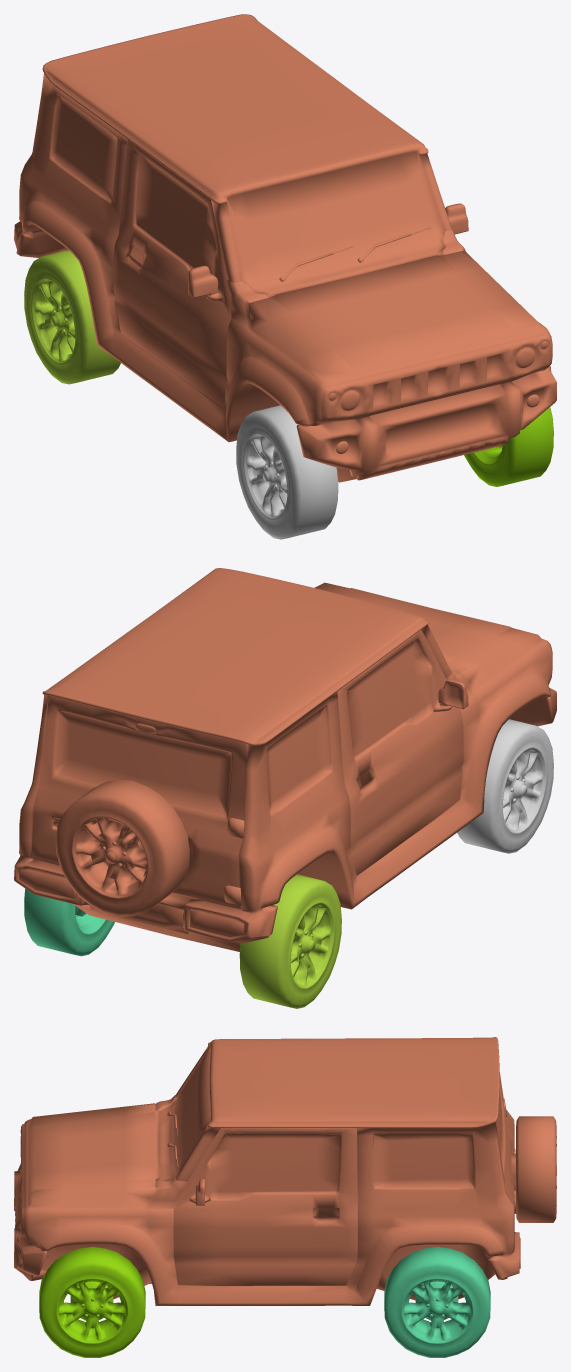
The model's file is SUV_Car_Model.fbx.
3 views of the same model, one above another, from view 1: azimuth 30°, elevation 25°; view 2: azimuth 150°, elevation 25°; view 3: azimuth 270°, elevation 25° (orthographic). The views are drawn at different scales.
Visible parts, largest first — view 1: Jimny_Universal_Body, Front_Right_Wheel, Rear_Right_Wehel, Front_Left_Wheel; view 2: Jimny_Universal_Body, Rear_Right_Wehel, Front_Right_Wheel, Rear_Left_Wheel; view 3: Jimny_Universal_Body, Front_Left_Wheel, Rear_Left_Wheel.
Part boxes in pixels (left/top/right/bottom): Jimny_Universal_Body: left=14, top=14, right=556, bottom=482; Front_Right_Wheel: left=236, top=405, right=338, bottom=539; Rear_Right_Wehel: left=24, top=250, right=120, bottom=384; Front_Left_Wheel: left=464, top=407, right=553, bottom=486; Jimny_Universal_Body: left=14, top=568, right=556, bottom=951; Rear_Right_Wehel: left=239, top=874, right=341, bottom=1008; Front_Right_Wheel: left=457, top=719, right=553, bottom=853; Rear_Left_Wheel: left=24, top=888, right=114, bottom=956; Jimny_Universal_Body: left=14, top=1037, right=556, bottom=1305; Front_Left_Wheel: left=39, top=1247, right=145, bottom=1357; Rear_Left_Wheel: left=384, top=1247, right=490, bottom=1357.
Size of the model in its own units: 408 by 402 by 854.
